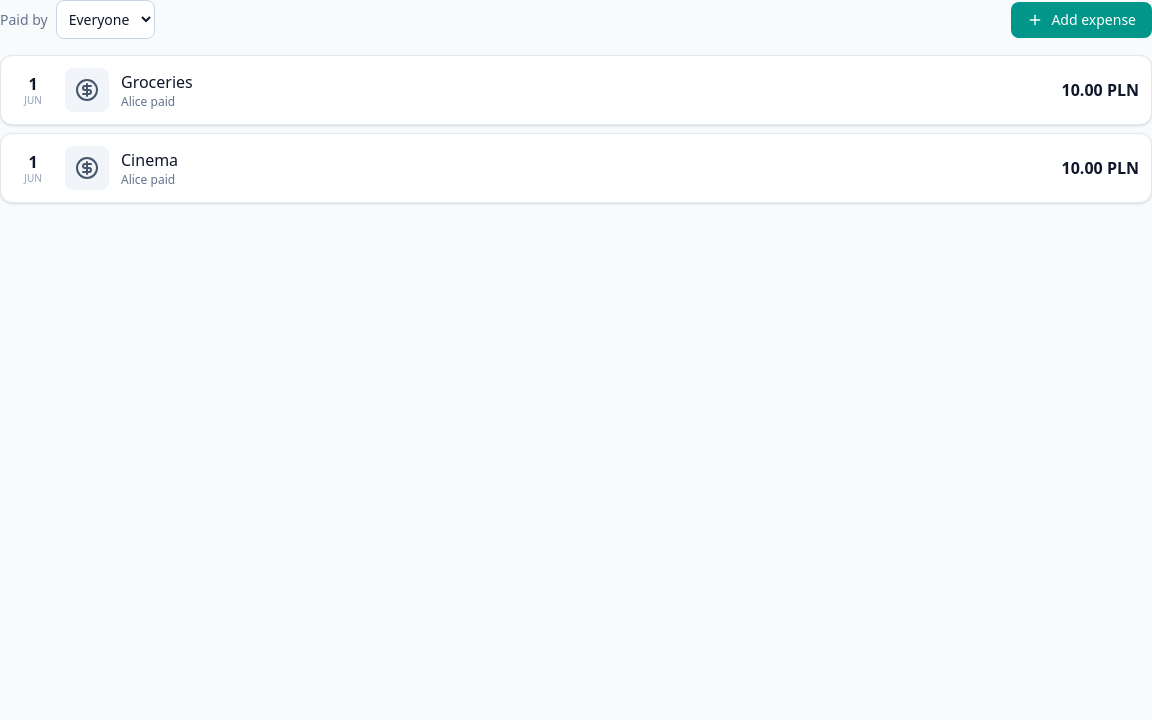
Test case: ExpensesTab — optimistic delete › disables the confirm button while a delete is already in flight
The image size is (1152, 720).
Click the text "Groceries".
click(157, 82)  # box top-left (121, 71), bottom-right (193, 93)
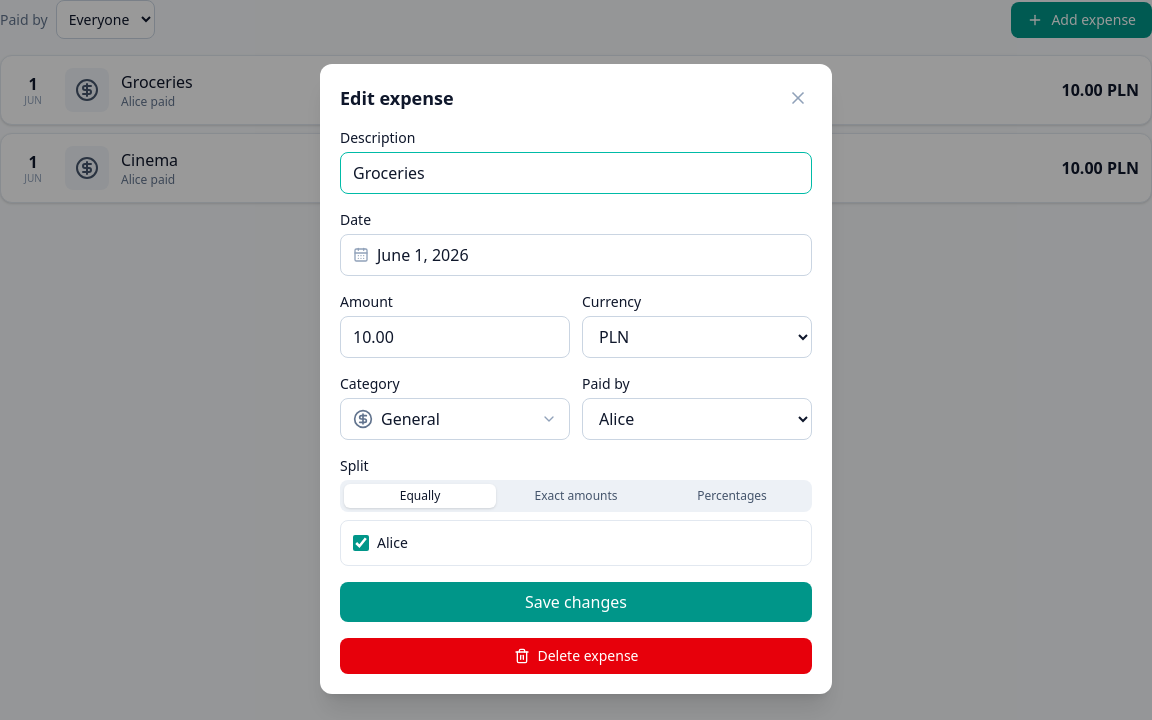
Click the button "Delete expense".
click(576, 656)  # box top-left (340, 638), bottom-right (812, 674)
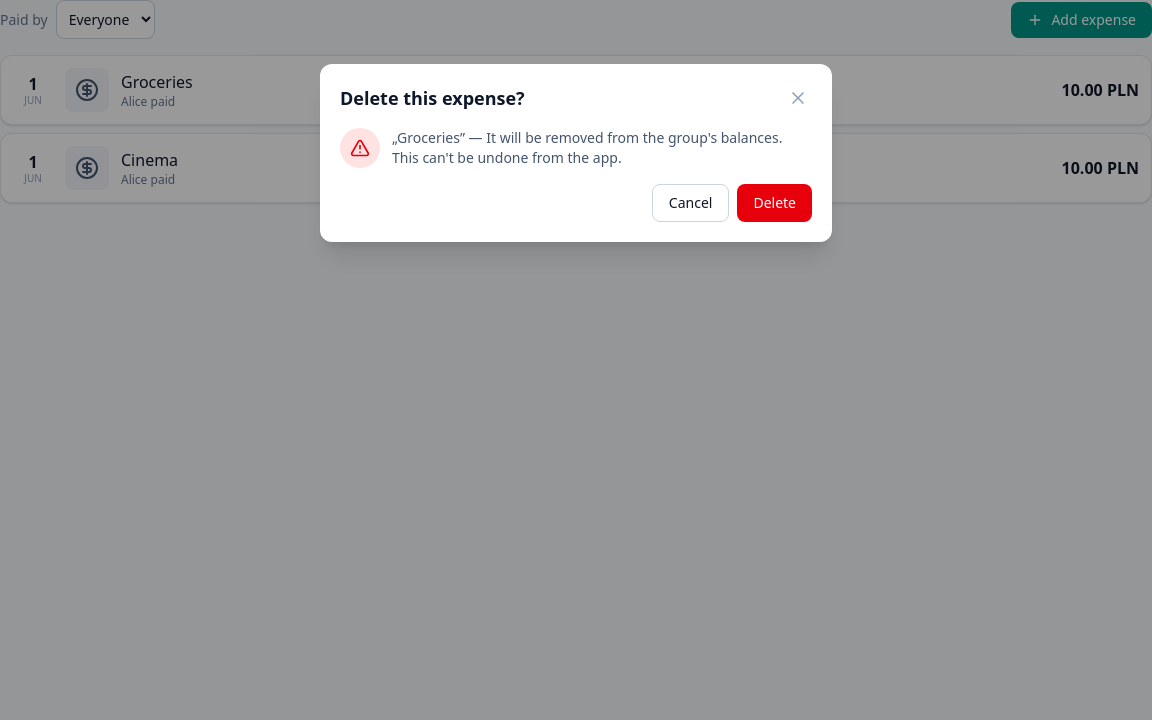
Click the button "Delete".
click(775, 203)  # box top-left (737, 184), bottom-right (812, 222)
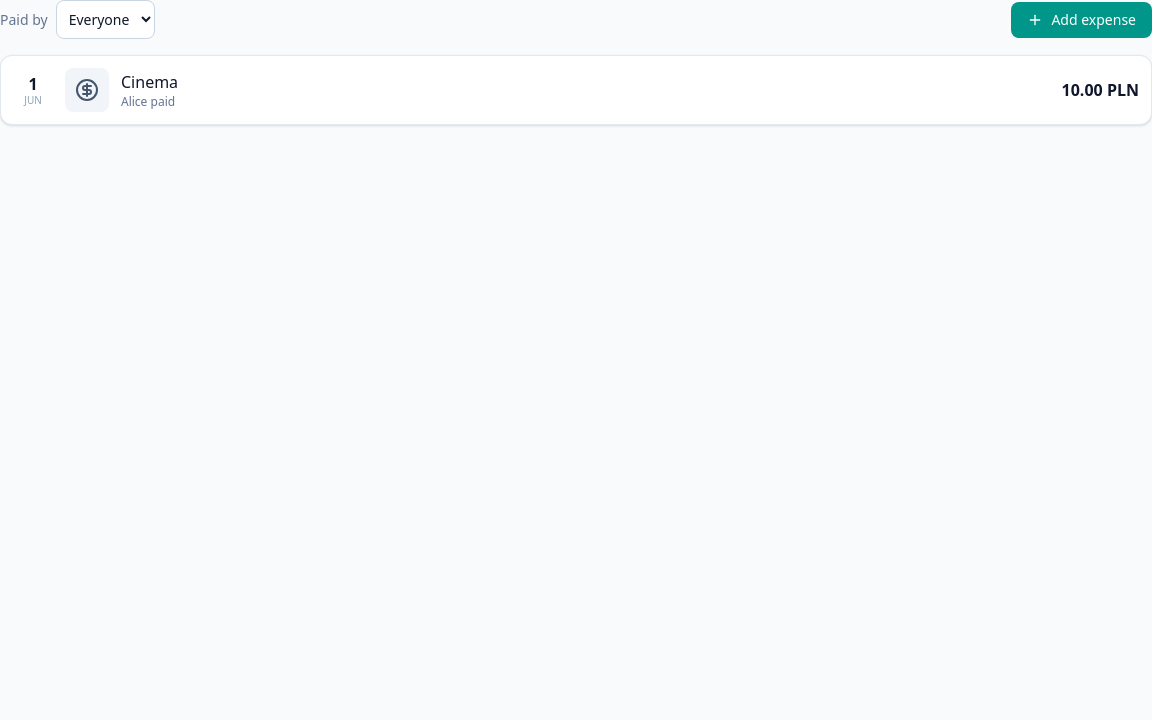
Expected: the button "Groceries" is gone
Click the text "Cinema".
click(150, 82)  # box top-left (121, 71), bottom-right (178, 93)
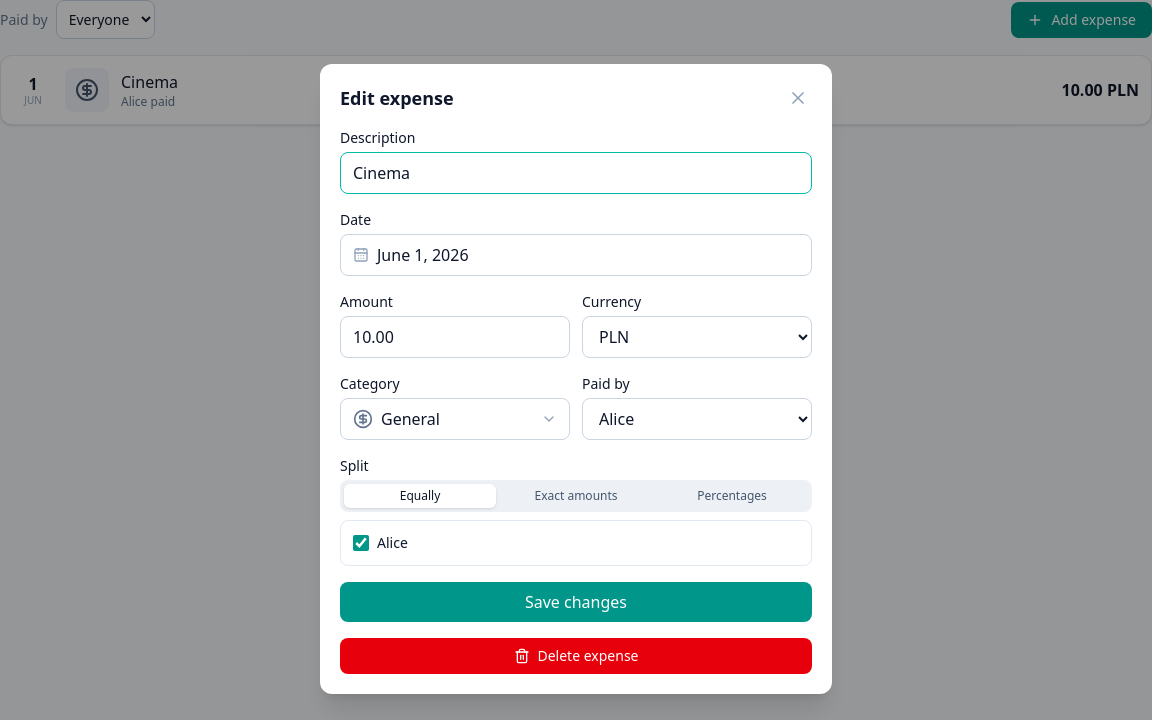
Click the button "Delete expense".
click(576, 656)  # box top-left (340, 638), bottom-right (812, 674)
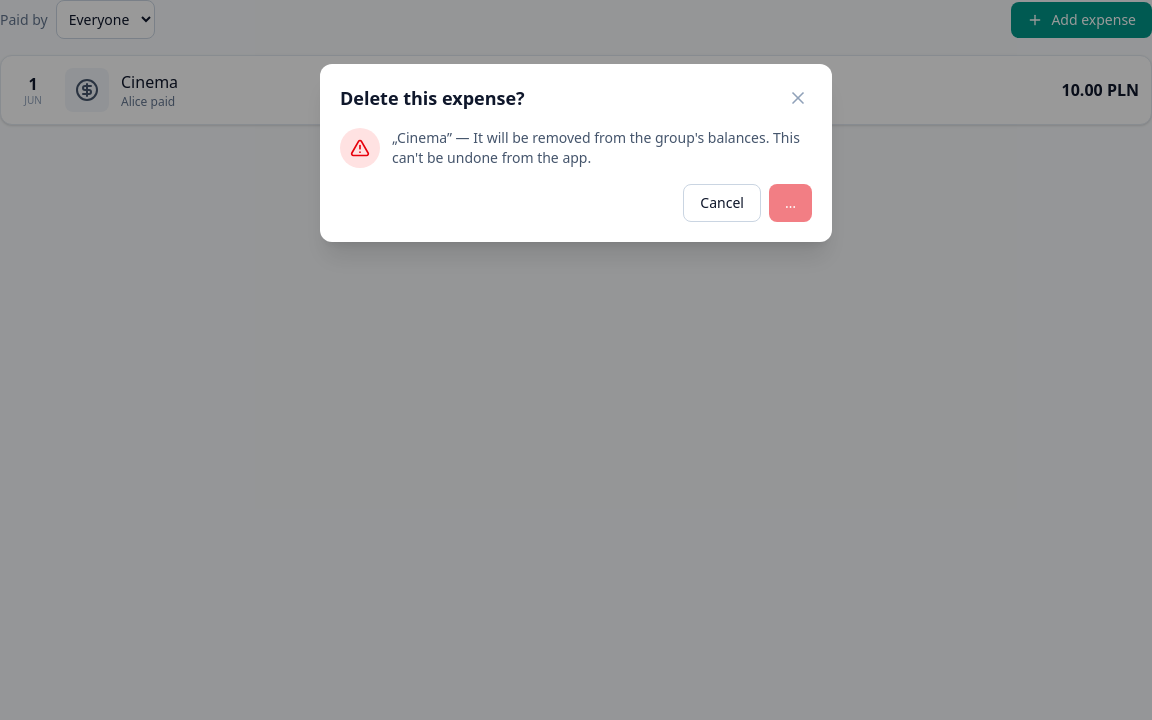
Expected: the button "…" is disabled, top-left (769, 184), bottom-right (812, 222)
